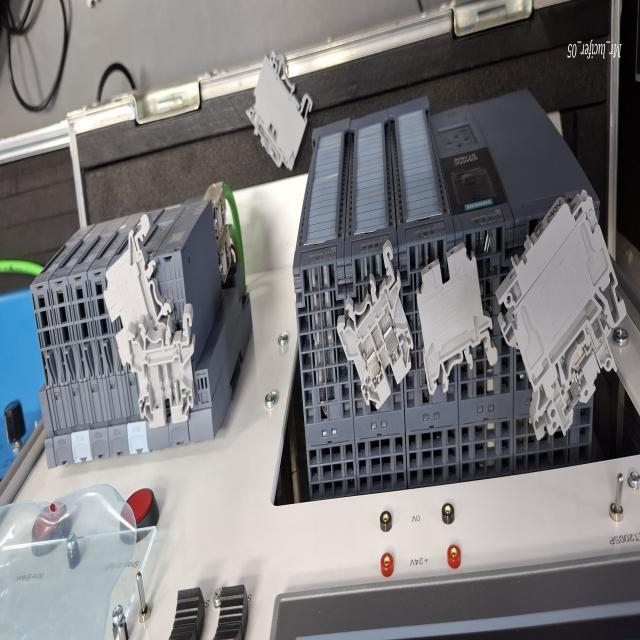Inverted: (406, 226, 504, 402), (101, 212, 175, 371)
Pass: (318, 251, 420, 403)
Reject: (124, 303, 202, 437)
